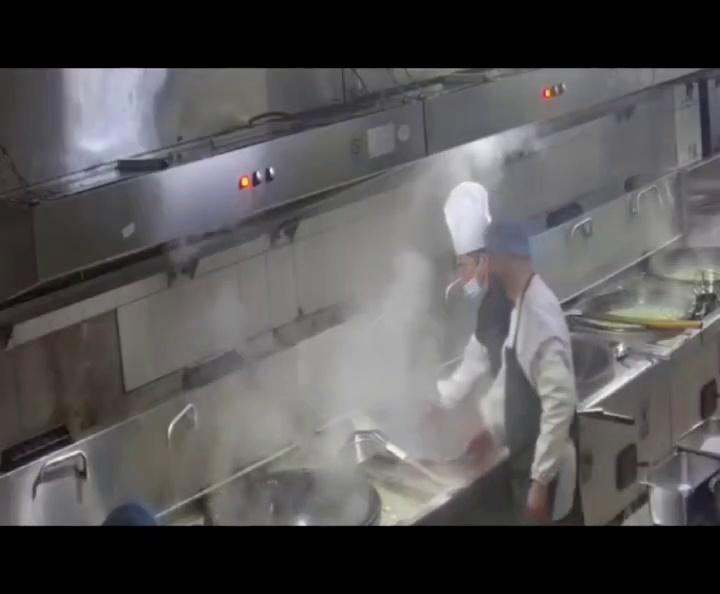mask: (459, 256, 488, 298)
